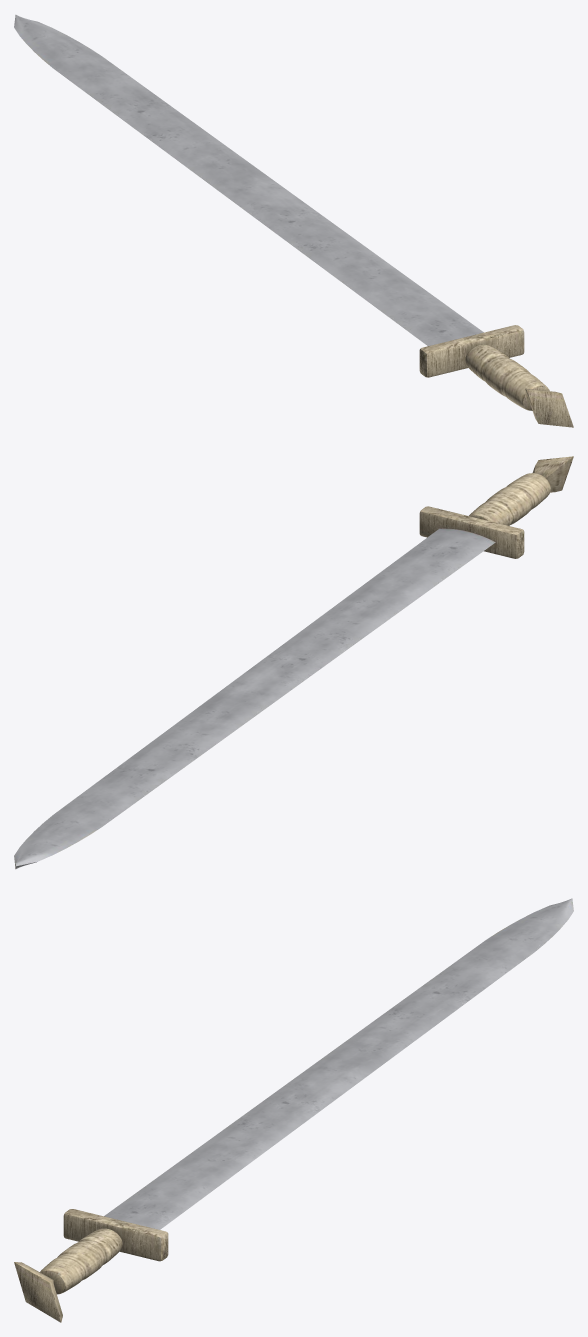
The model's file is gepid_spatha.glb.
3 renders of one model, top to bottom at view 1: azimuth 30°, elevation 25°; view 2: azimuth 150°, elevation 25°; view 3: azimuth 330°, elevation 25°, orthographic.
Visible parts, largest first — view 1: gepid_spatha; view 2: gepid_spatha; view 3: gepid_spatha.
Boxes of the visible parts, left/top/right/bottom form: gepid_spatha: left=14, top=14, right=573, bottom=427; gepid_spatha: left=14, top=456, right=573, bottom=869; gepid_spatha: left=14, top=898, right=573, bottom=1322.
Bounding box in the file's own units: 0.095 × 0.0452 × 0.888.
1 material, 1 textured.
